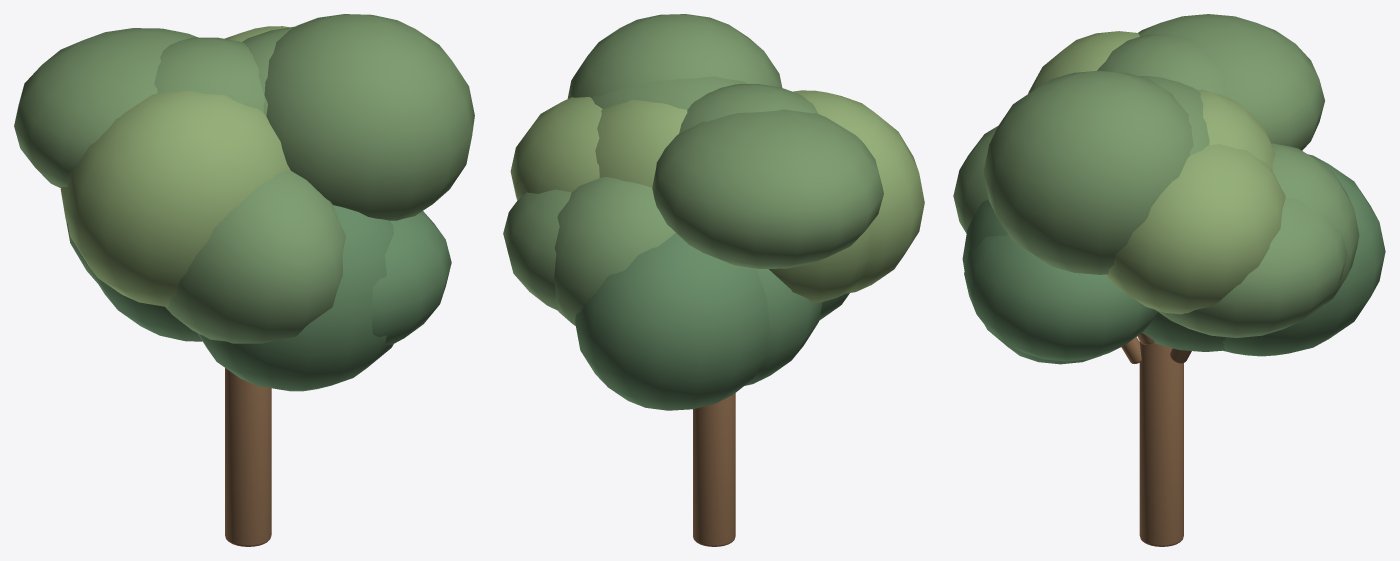
The model's file is tree_0.glb.
The picture shows the model from 3 angles, left to right: view 1: azimuth 30°, elevation 25°; view 2: azimuth 150°, elevation 25°; view 3: azimuth 270°, elevation 25°; orthographic projection. The views are drawn at different scales.
Parts seen in each view (by area): view 1: Trunk; view 2: Trunk; view 3: Trunk.
Boxes of the visible parts, bbox=[...] form: Trunk: bbox=[14, 14, 474, 546]; Trunk: bbox=[503, 14, 924, 546]; Trunk: bbox=[953, 14, 1385, 546].
Size of the model in its own units: 4.63 by 5.88 by 4.69.
